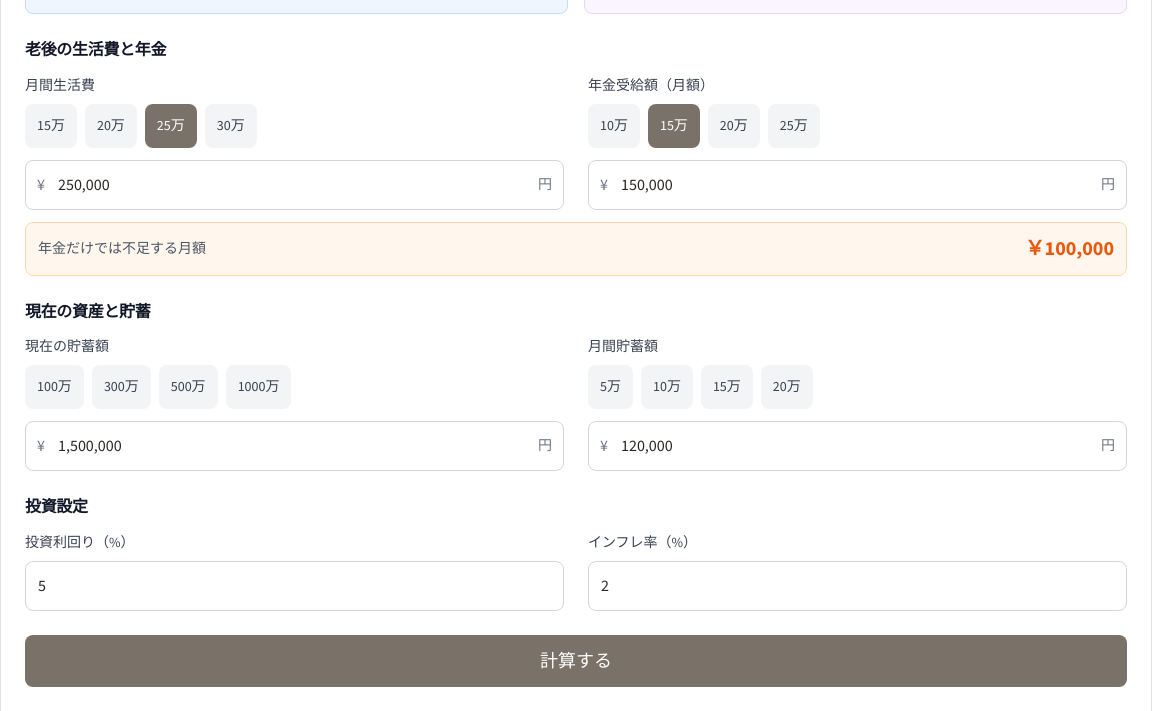
Test: RetirementCalculator › 結果表示 › 資金充足時に良好な状態メッセージが表示される
(page scrolled)
Click the button "計算する". click: point(576, 661)
box: [25,635,1127,687]
(page scrolled)
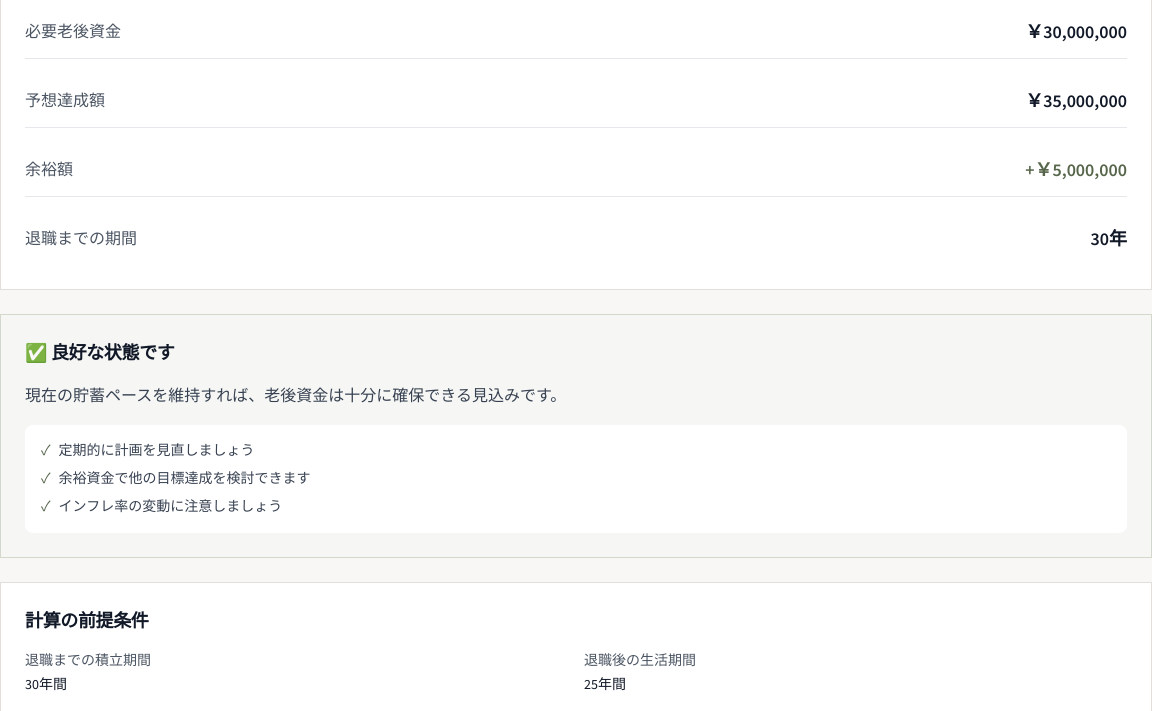
Expected: the heading "✅ 良好な状態です" is shown, [25,342,174,364]
